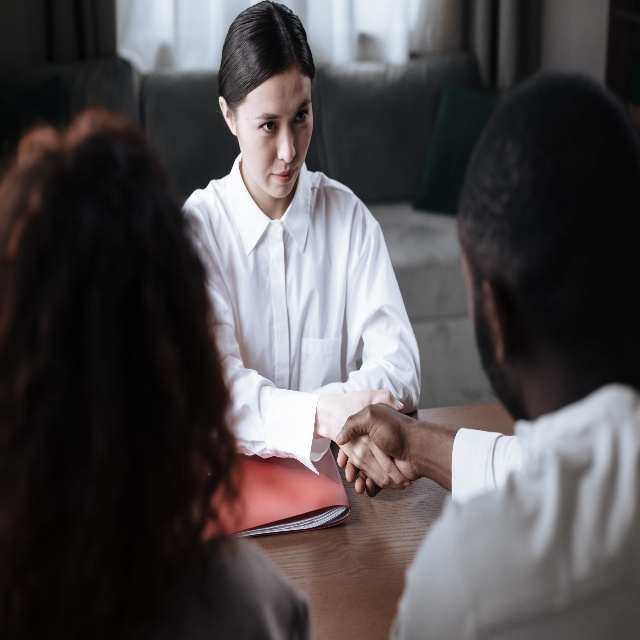Sin_guantes: (331, 385, 415, 492), (334, 397, 415, 499)
